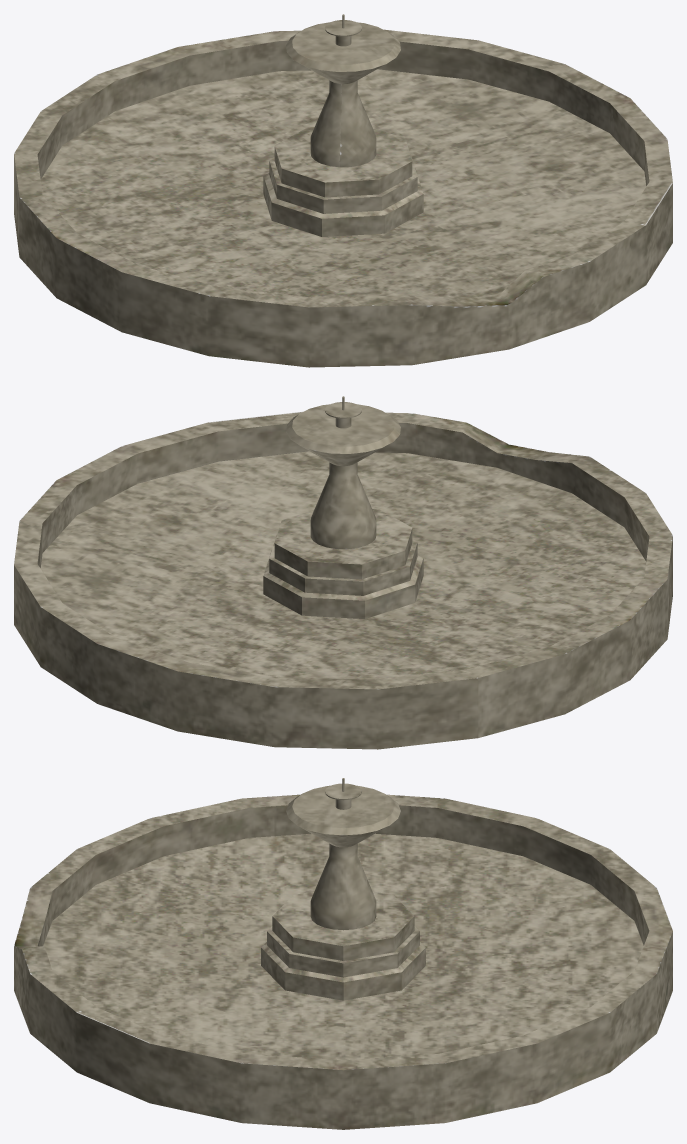
File: Fountain.dae
The picture shows the model from 3 angles, top to bottom: view 1: azimuth 30°, elevation 25°; view 2: azimuth 150°, elevation 25°; view 3: azimuth 270°, elevation 25°; orthographic projection.
Parts seen in each view (by area): view 1: pCylinder9; view 2: pCylinder9; view 3: pCylinder9.
Boxes of the visible parts, bbox=[...] form: pCylinder9: bbox=[14, 14, 672, 367]; pCylinder9: bbox=[14, 396, 672, 749]; pCylinder9: bbox=[14, 778, 672, 1129].
Size of the model in its own units: 20 by 7.1 by 20.
